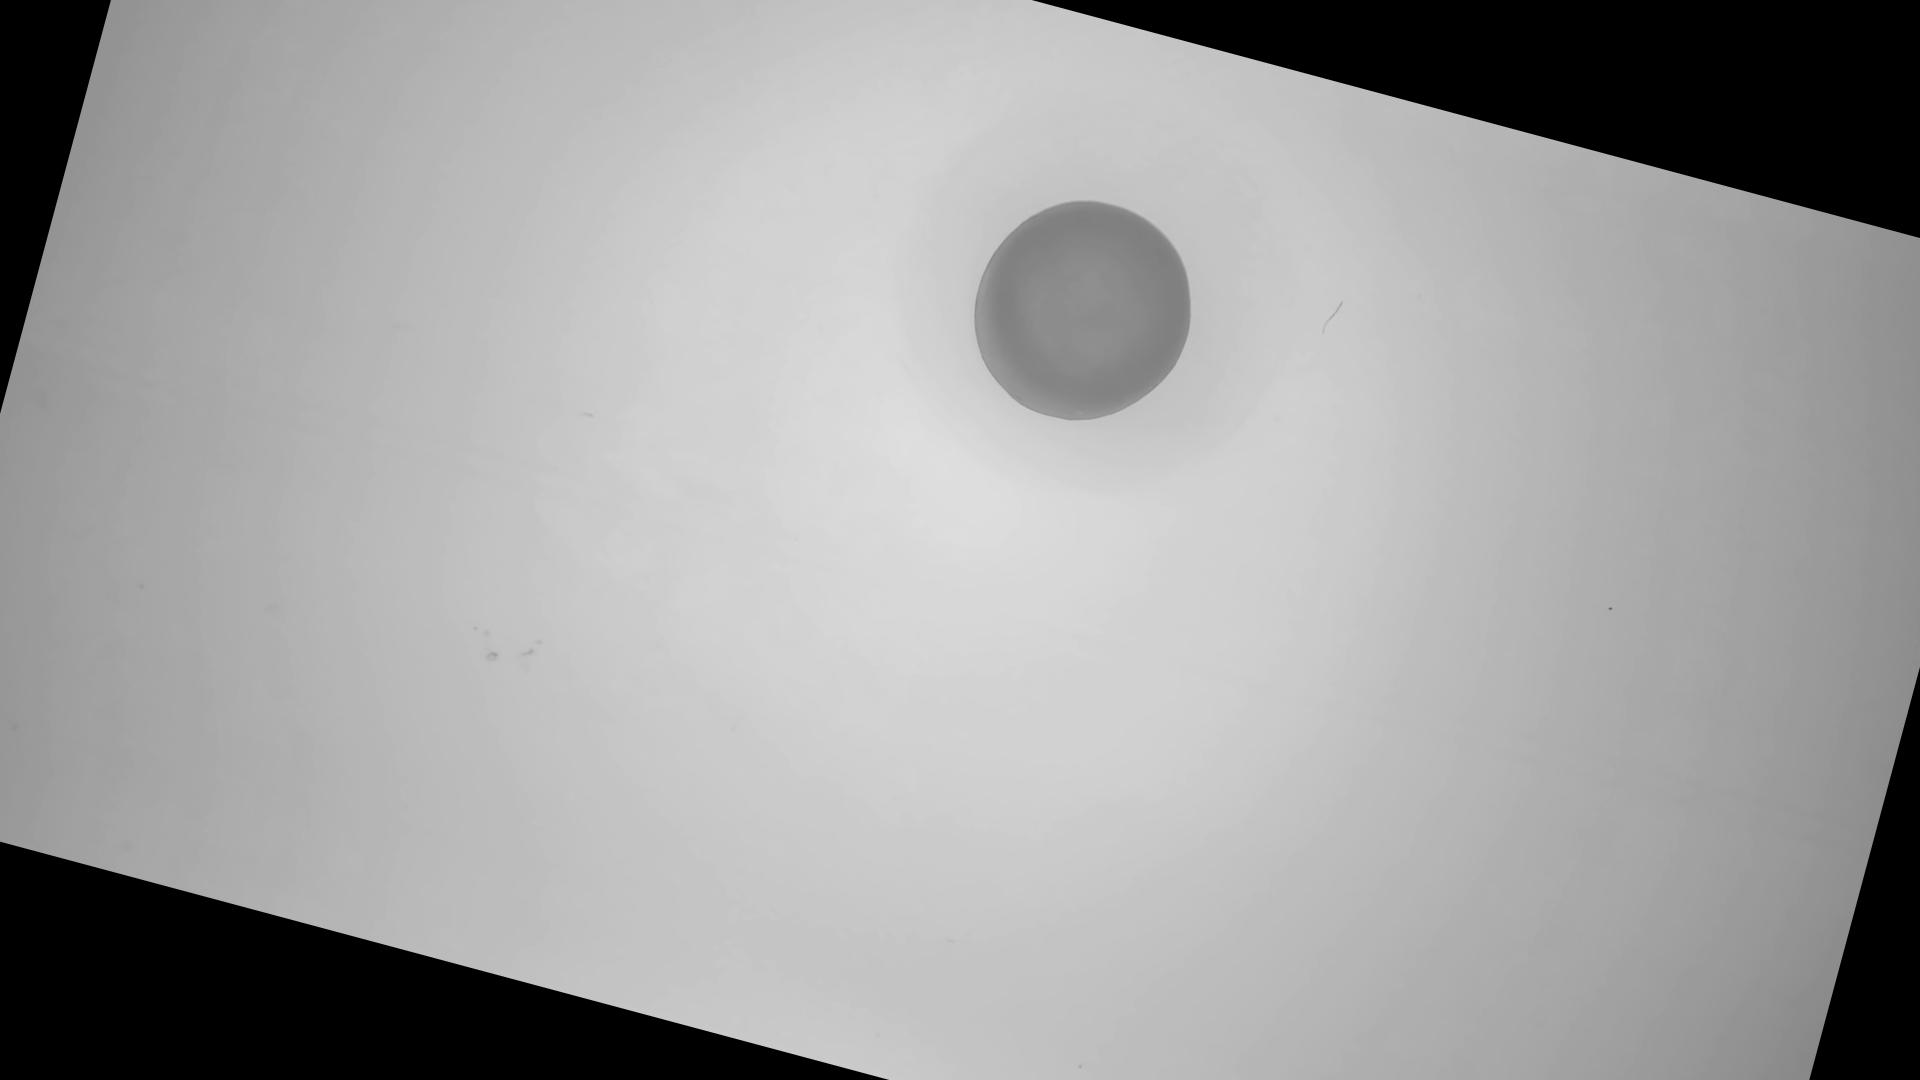normal: (949, 174, 1221, 448)
